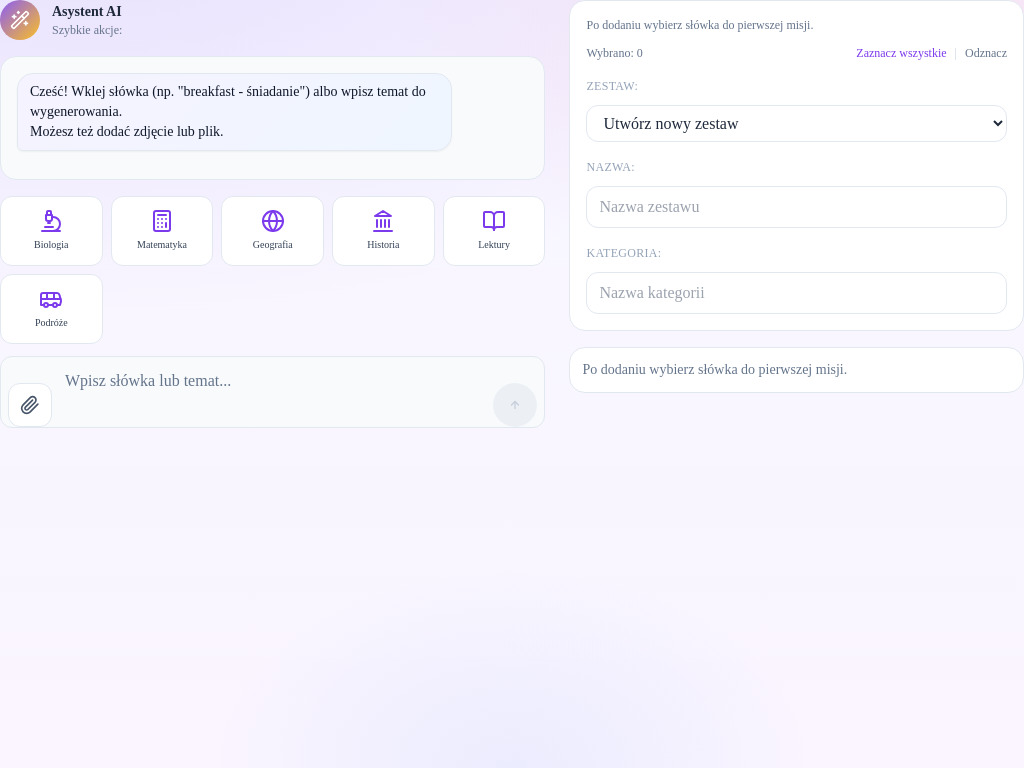
WordIntake › clears generated words after canceling onboarding review
Step 1. Type "Wygeneruj 5 słówek o biologii" into the text box with placeholder "Wpisz słówka lub temat..." → (273, 392), box [0,356,546,428]
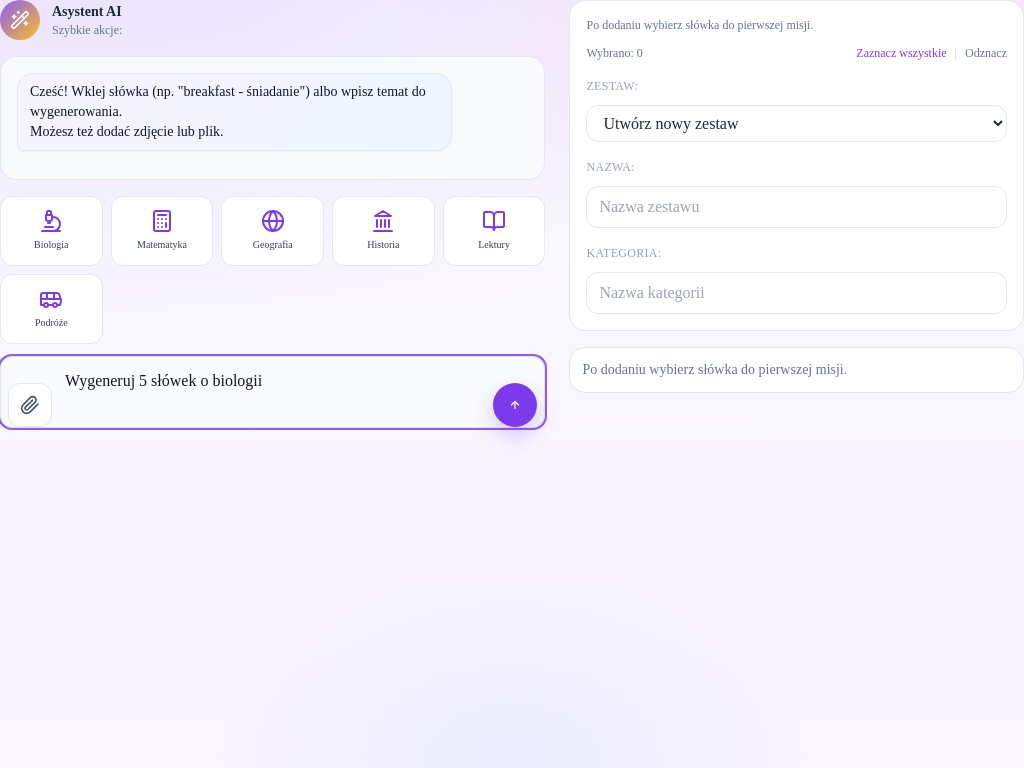
Step 2. Press Enter
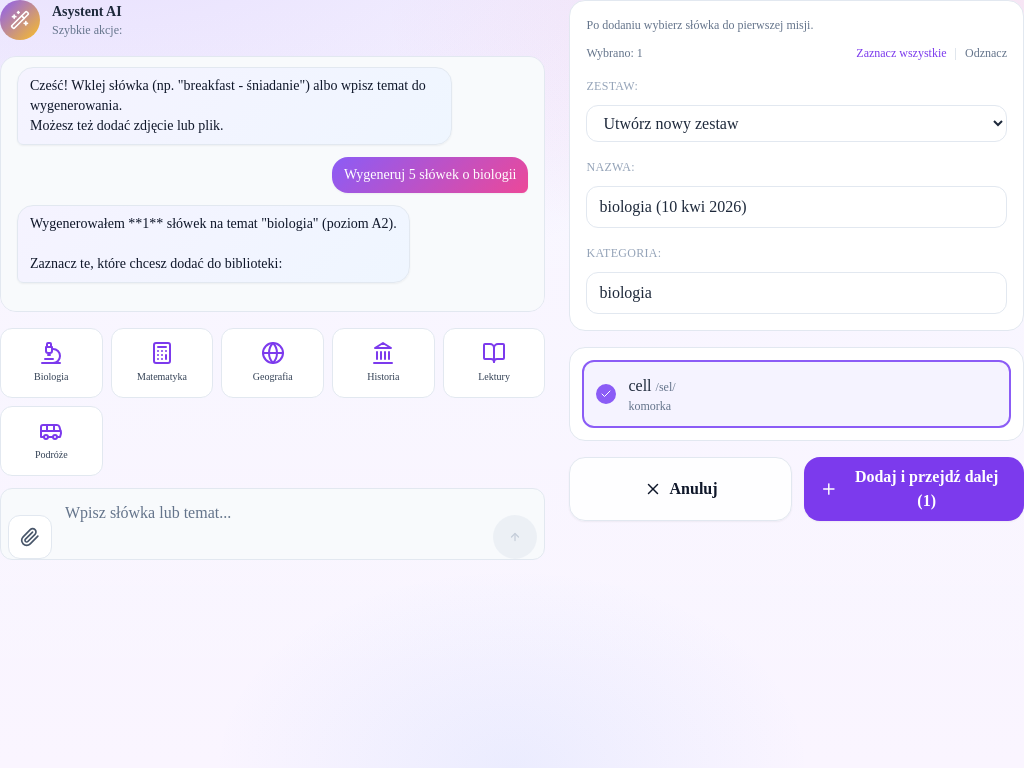
Expected: the text "cell" is shown, [628,377,652,394]
Step 3. Click the button "Anuluj" → click(681, 489), box [570,457,792,521]
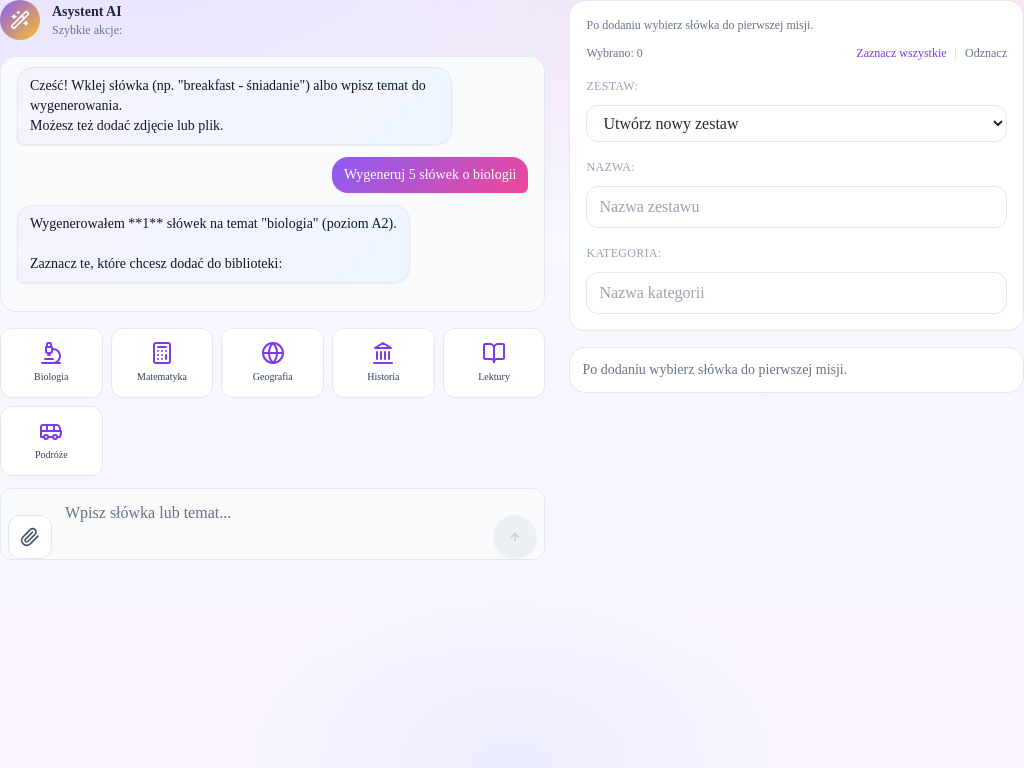
Expected: the button "cell" is gone
